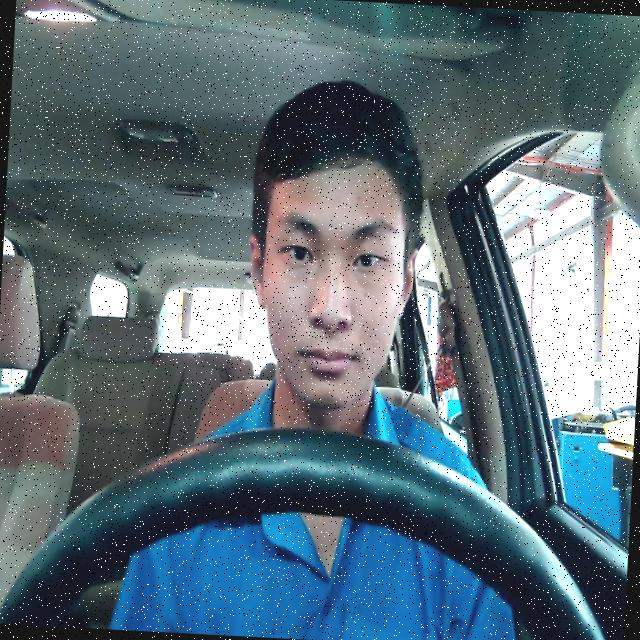focused: (242, 151, 420, 413)
